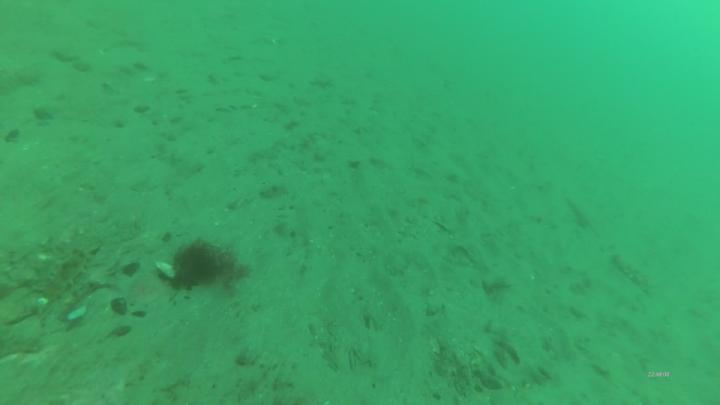echinus: (169, 241, 232, 293)
holothurian: (38, 247, 97, 306), (57, 272, 117, 323), (611, 253, 655, 296)
